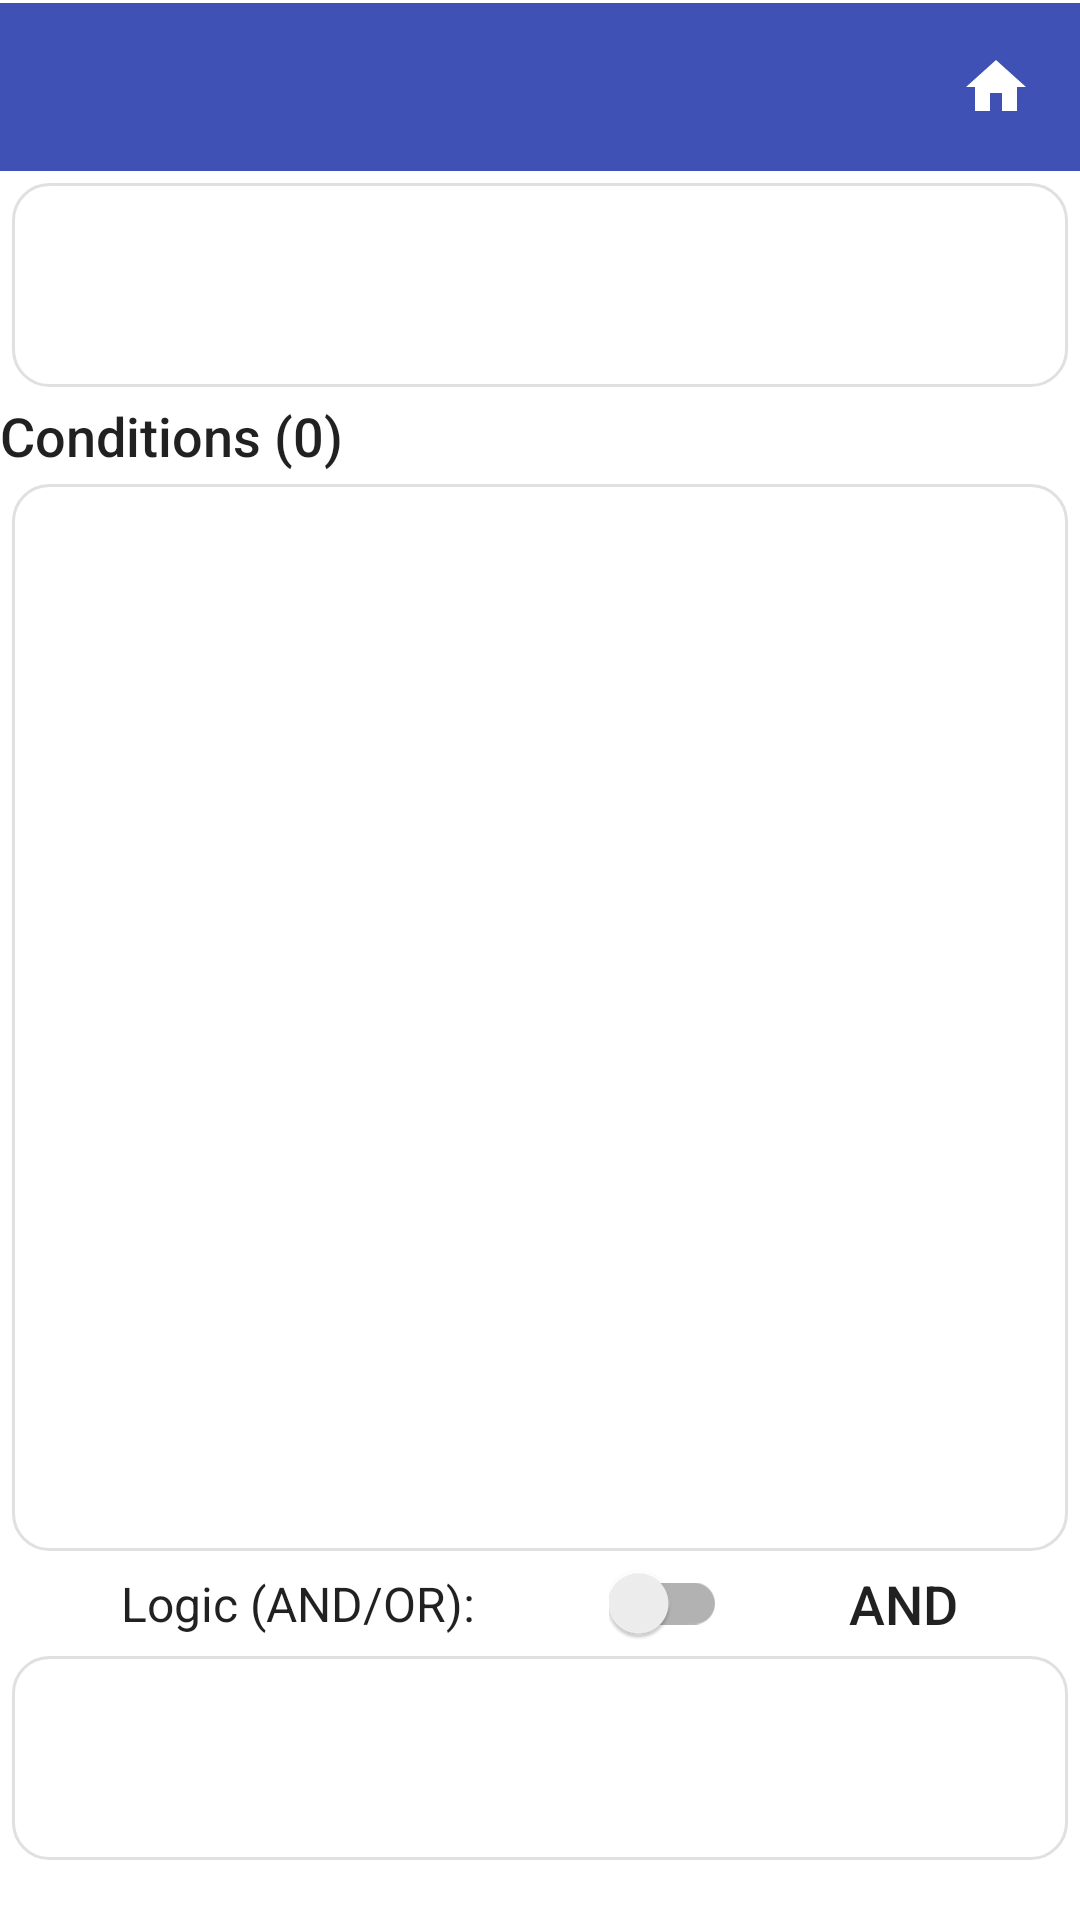

Icon bounding boxes for this 1080 × 1920 phone screenshot, format box=[x1, y1, x2, y2]:
Home: box=[966, 60, 1026, 111]
